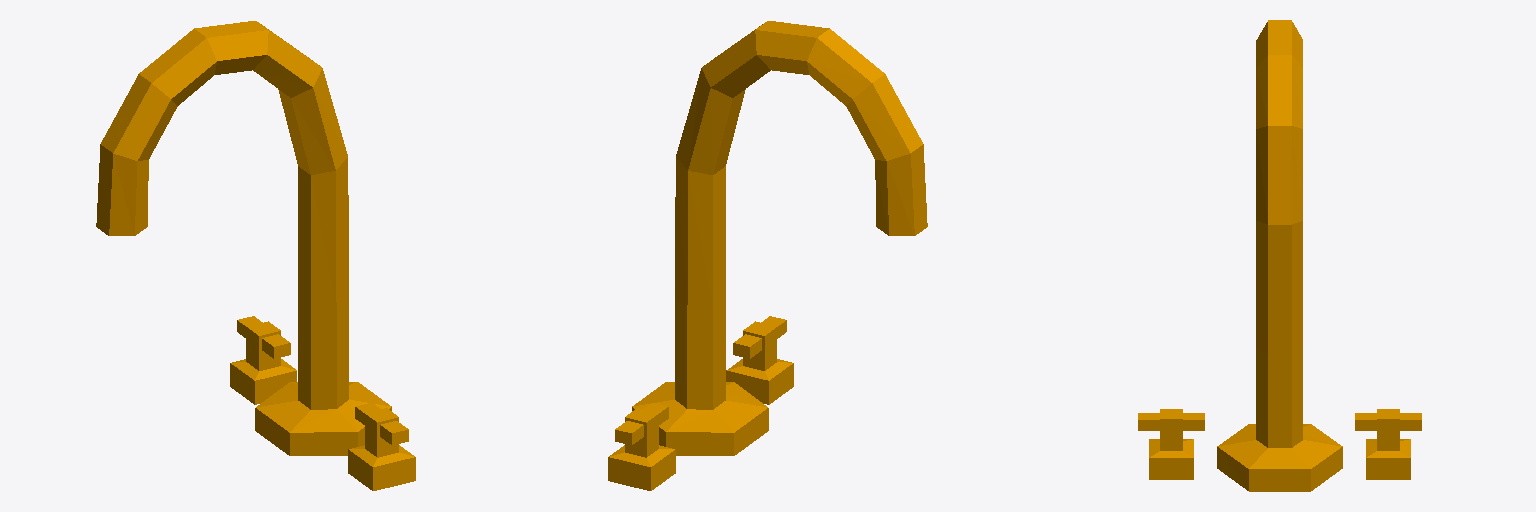
robot.urdf — Faucet:
<robot name="Faucet">
    <link name="faucet">
        <visual>
            <geometry>
                <mesh filename="meshes/faucet.obj"/>
            </geometry>
        </visual>
        <collision>
            <geometry>
                <mesh filename="meshes/faucet.obj"/>
            </geometry>
        </collision>
    </link>
</robot>

--- Render facts (derived) ---
Views: 3 orthographic renders of the robot side by side, from view 1: azimuth 30°, elevation 25°; view 2: azimuth 150°, elevation 25°; view 3: azimuth 270°, elevation 25°.
Model Faucet with 1 links and 0 joints (none), rooted at faucet, posed all joints at 0.
Visible links, largest first — view 1: faucet; view 2: faucet; view 3: faucet.
Boxes of the visible links, box(x1,y1,x2,y2) form: faucet: box(96, 21, 415, 490); faucet: box(608, 21, 927, 490); faucet: box(1138, 20, 1421, 491).
Size in the robot's own frame: 0.0251 by 0.0248 by 0.0379 metres.
Meshes: 1 distinct files referenced, 1 mesh visuals loaded (1 OBJ).